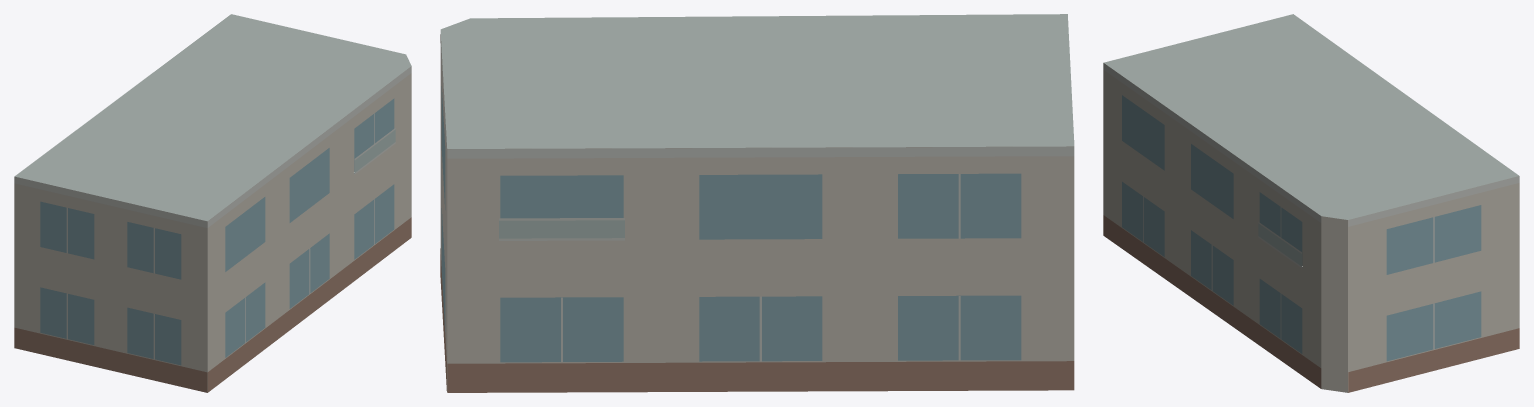
The model's file is survey-upis-32674338.glb.
3 renders of one model, left to right at view 1: azimuth 30°, elevation 25°; view 2: azimuth 150°, elevation 25°; view 3: azimuth 270°, elevation 25°, orthographic. The views are drawn at different scales.
Visible parts, largest first — view 1: survey-upis-32674338.tmp; view 2: survey-upis-32674338.tmp; view 3: survey-upis-32674338.tmp.
Part boxes in pixels (x1,y1,x2,y2): survey-upis-32674338.tmp: (14,14,411,392); survey-upis-32674338.tmp: (440,14,1074,392); survey-upis-32674338.tmp: (1103,14,1519,392).
Size of the model in its own units: 15.6 by 6.1 by 13.32.
